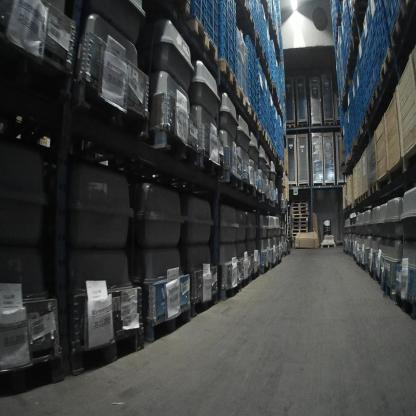pallet: (1, 36, 73, 99), (68, 321, 145, 377), (77, 78, 149, 137), (0, 347, 65, 399), (150, 126, 199, 166), (148, 303, 191, 342), (185, 16, 217, 63), (190, 289, 219, 318), (390, 2, 408, 48), (377, 158, 402, 190), (200, 154, 228, 182), (218, 59, 238, 95), (396, 291, 416, 321), (380, 46, 393, 84), (219, 280, 241, 301), (402, 141, 416, 171), (237, 86, 249, 114), (381, 278, 395, 301), (228, 172, 244, 189), (246, 2, 255, 30), (372, 82, 382, 104), (249, 105, 259, 126), (177, 0, 190, 16), (243, 180, 255, 196), (255, 30, 263, 53), (262, 52, 270, 75), (370, 268, 381, 284), (365, 100, 373, 119), (250, 267, 260, 282), (321, 238, 336, 248), (360, 261, 370, 275), (240, 275, 250, 289), (260, 262, 270, 275), (369, 181, 377, 195), (259, 122, 266, 138), (351, 13, 356, 34), (361, 117, 367, 133), (265, 132, 271, 148), (292, 217, 309, 222), (291, 221, 308, 226), (291, 206, 308, 211), (272, 82, 278, 96), (269, 259, 277, 269), (349, 34, 353, 54), (351, 138, 357, 151), (270, 144, 276, 156), (291, 203, 309, 207), (291, 210, 308, 214), (292, 214, 309, 218), (291, 226, 308, 230), (291, 229, 308, 233), (346, 53, 350, 70), (363, 189, 369, 200), (352, 0, 357, 13), (345, 154, 351, 164), (357, 128, 361, 142), (324, 121, 335, 126), (296, 123, 307, 128), (276, 257, 282, 265), (293, 200, 309, 203), (286, 124, 295, 129), (279, 159, 284, 168), (269, 73, 273, 84), (241, 1, 246, 9), (277, 95, 281, 105), (359, 194, 363, 203), (335, 14, 338, 26), (280, 105, 283, 116), (275, 153, 279, 161), (282, 93, 286, 101), (291, 233, 297, 237), (345, 163, 348, 170), (350, 151, 353, 158), (292, 240, 295, 244), (292, 244, 295, 248), (292, 237, 295, 240)
small_load_carrier: (368, 16, 375, 46), (365, 29, 372, 58), (365, 0, 372, 29), (371, 36, 377, 69), (362, 19, 368, 46), (360, 35, 366, 61), (367, 51, 374, 72), (362, 43, 368, 67), (373, 61, 380, 81), (364, 61, 370, 84), (365, 80, 372, 99), (370, 71, 375, 92)
